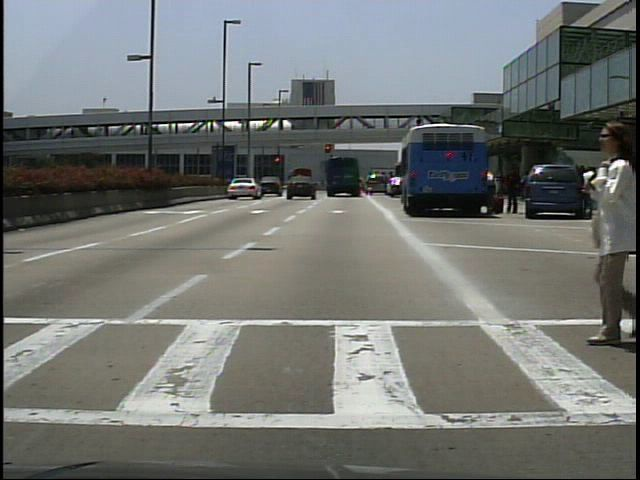person: (578, 116, 640, 351), (584, 163, 602, 218), (502, 165, 522, 214), (484, 163, 502, 215)
